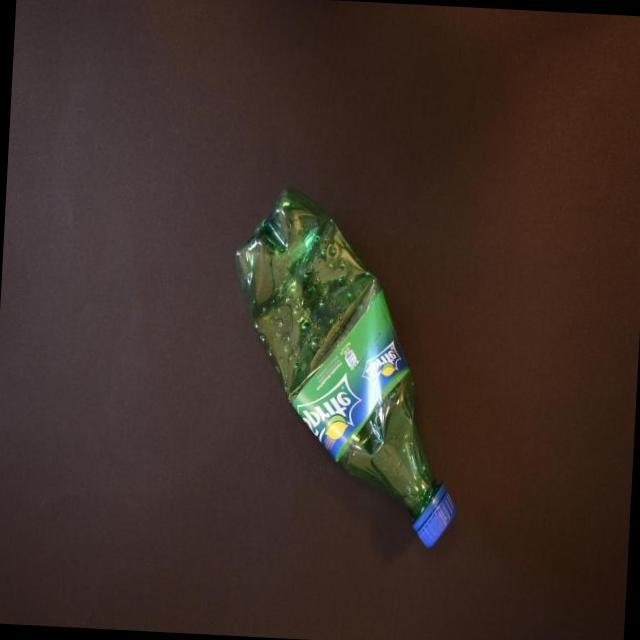plastic_bottle: (220, 184, 474, 550)
